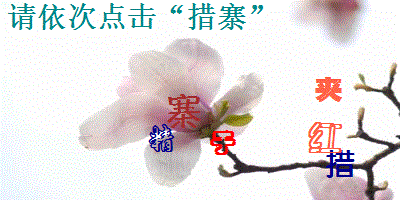text: (165, 92, 202, 133), (307, 120, 344, 155), (326, 148, 356, 179), (148, 123, 175, 155), (314, 75, 343, 103), (210, 128, 237, 156)
